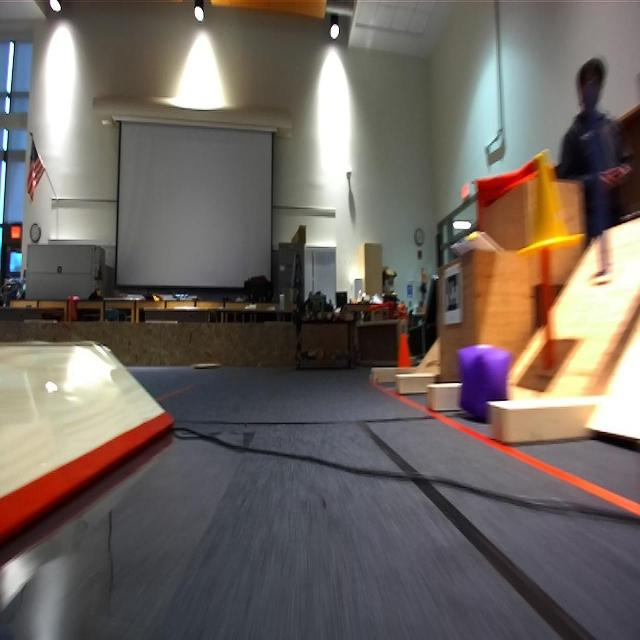frc_cone: (518, 147, 578, 248)
frc_cube: (460, 342, 507, 413)
